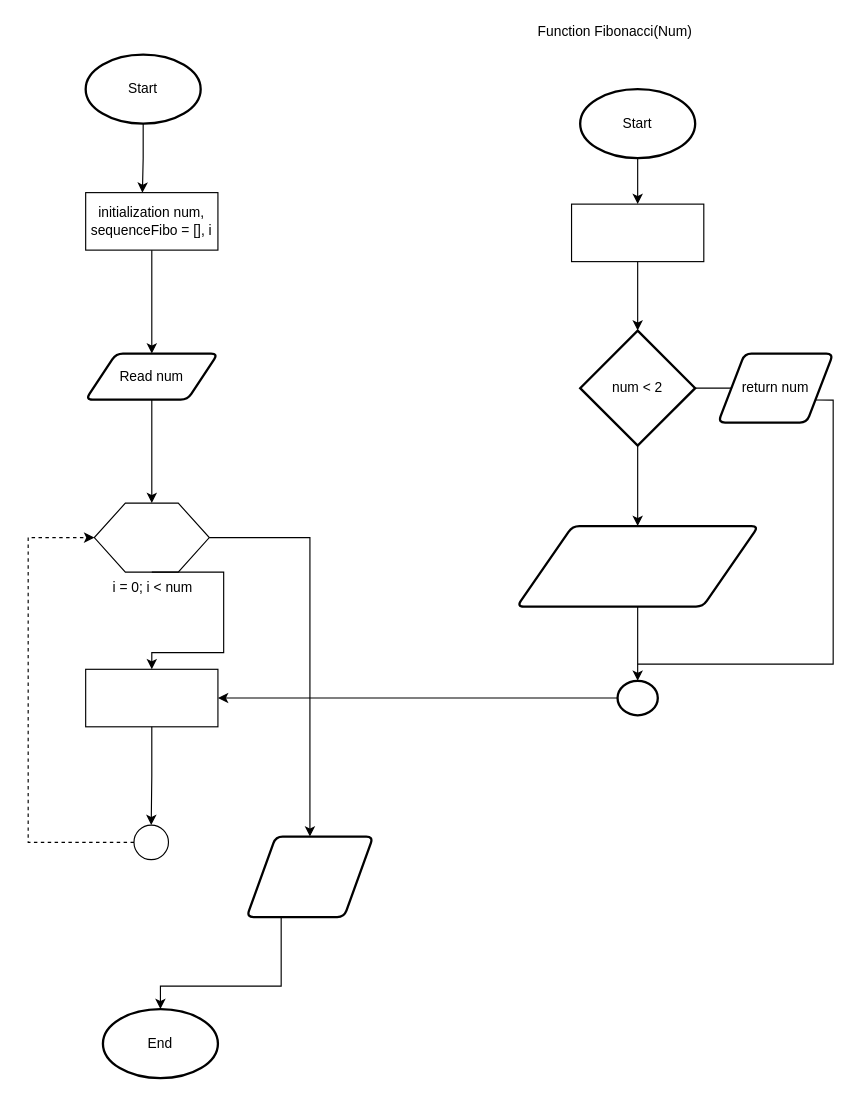
Image size: 854x1098. Some labels were removed from this diagram. Here are the shapes that lost their labels. From the top down, the centre of each, then its label:
point (637, 232): initialization fiboSequence(num)
point (637, 565): return fiboSequence(num - 1) + fiboSequence(num - 2)
point (151, 697): sequenceFibo push (fiboSequence(i)) increment i
point (309, 876): output: sequenceFibo join (',')
